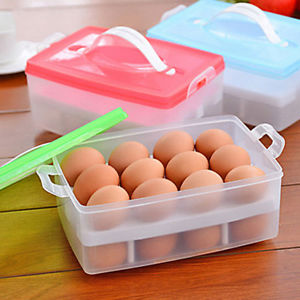egg: (58, 130, 275, 266)
